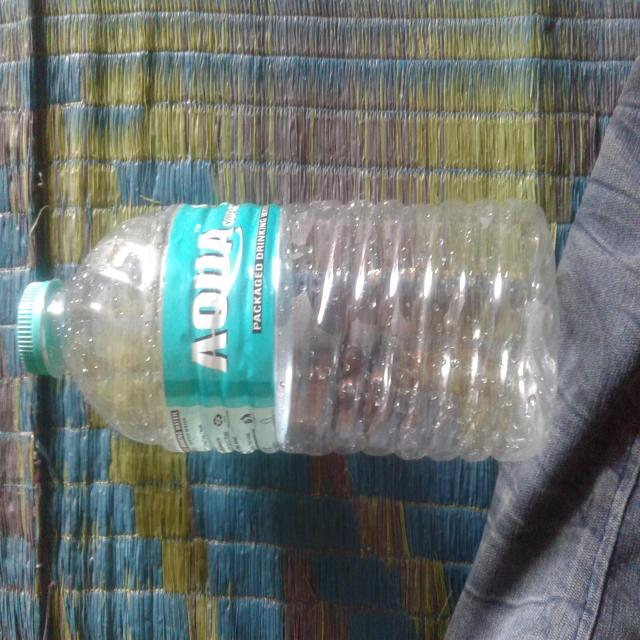bottle: (15, 193, 564, 472)
